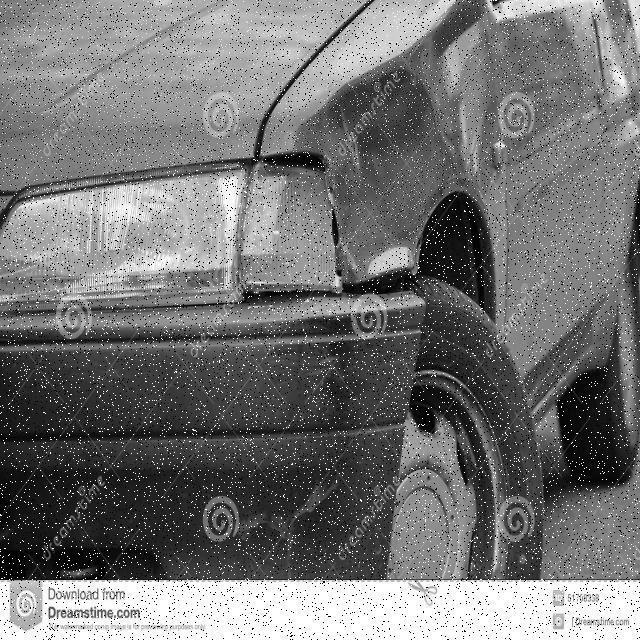fender-dent: (253, 16, 505, 333)
